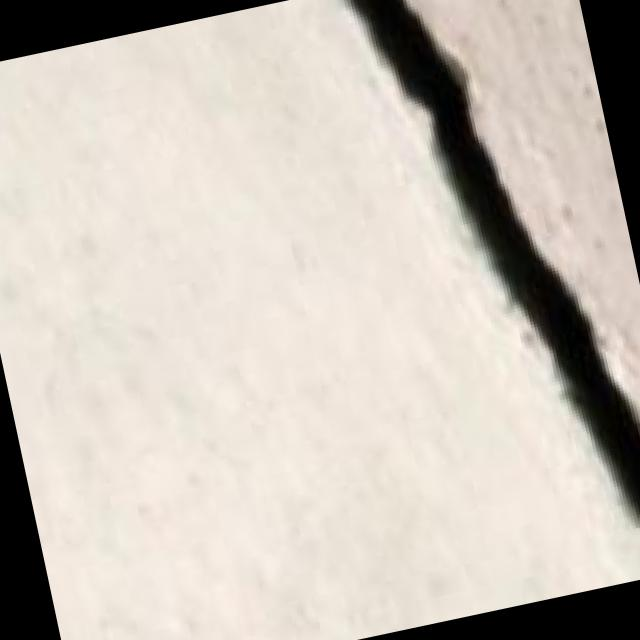crack: (310, 0, 640, 618)
